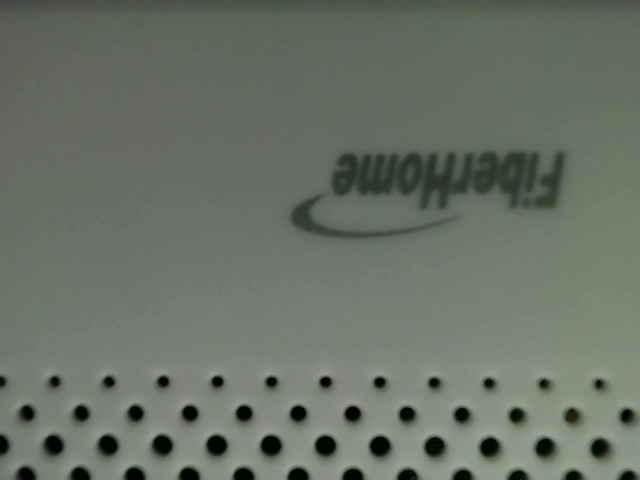AI_FiberHome: (270, 138, 580, 249)
